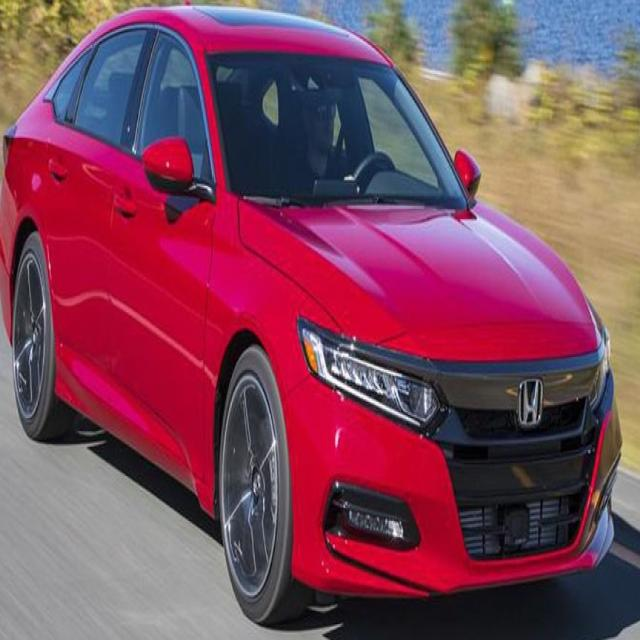red: (0, 5, 622, 586)
